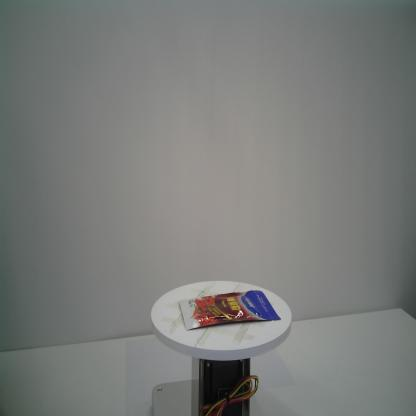Seasoner: (178, 289, 282, 331)
